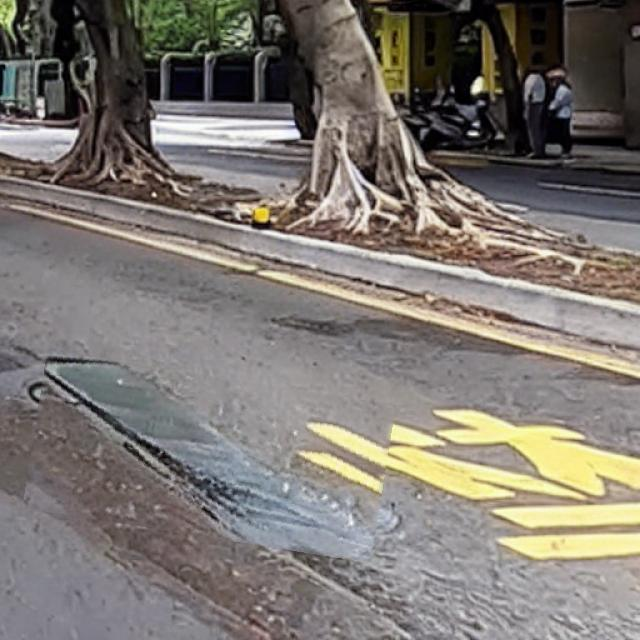puddle: (29, 364, 392, 551)
